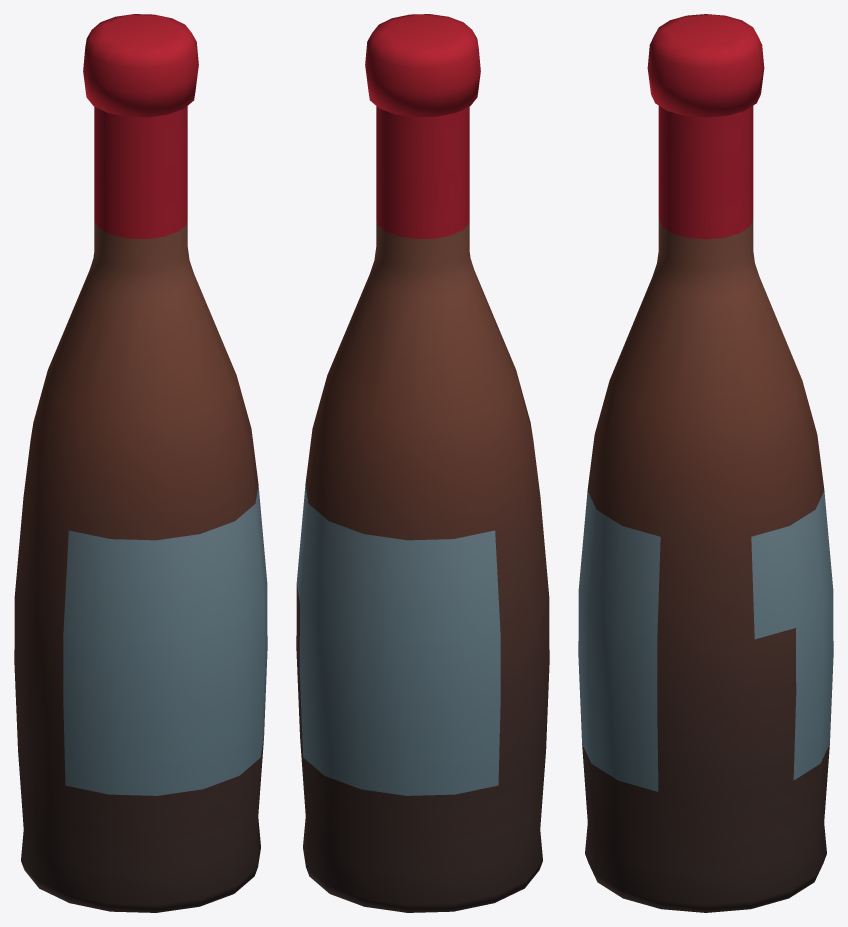
The model's file is bottle_020.fbx.
3 views of the same model, side by side, from view 1: azimuth 30°, elevation 25°; view 2: azimuth 150°, elevation 25°; view 3: azimuth 270°, elevation 25° (orthographic).
Parts seen in each view (by area): view 1: bottle_020; view 2: bottle_020; view 3: bottle_020.
Boxes of the visible parts, box(x1,y1,x2,y2) form: bottle_020: box(14, 14, 267, 912); bottle_020: box(296, 14, 549, 912); bottle_020: box(578, 14, 833, 912).
Bounding box in the file's own units: 8.47 × 8.47 × 30.62.
